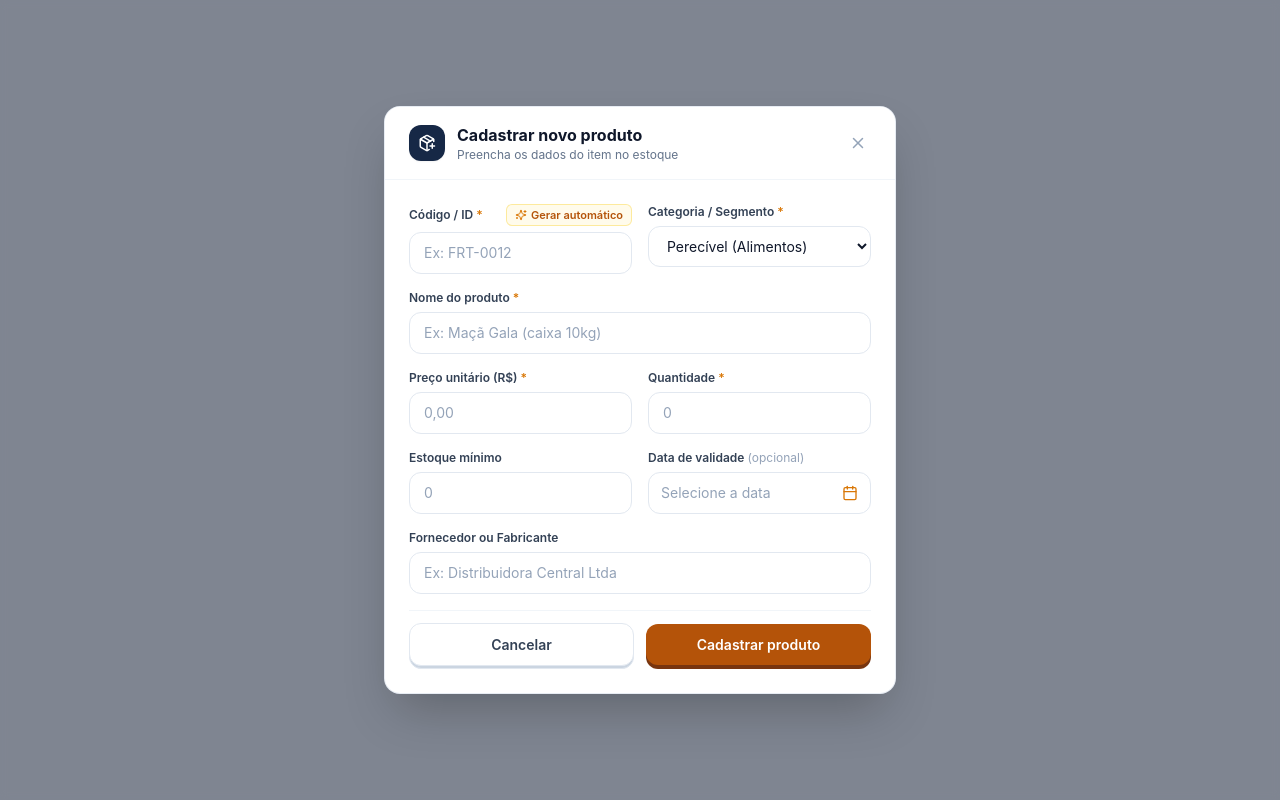
ProductModal › valida campos obrigatórios ao submeter formulário vazio
Click the button "Cadastrar produto" at (758, 644), box x1=646 y1=624 x2=871 y2=665
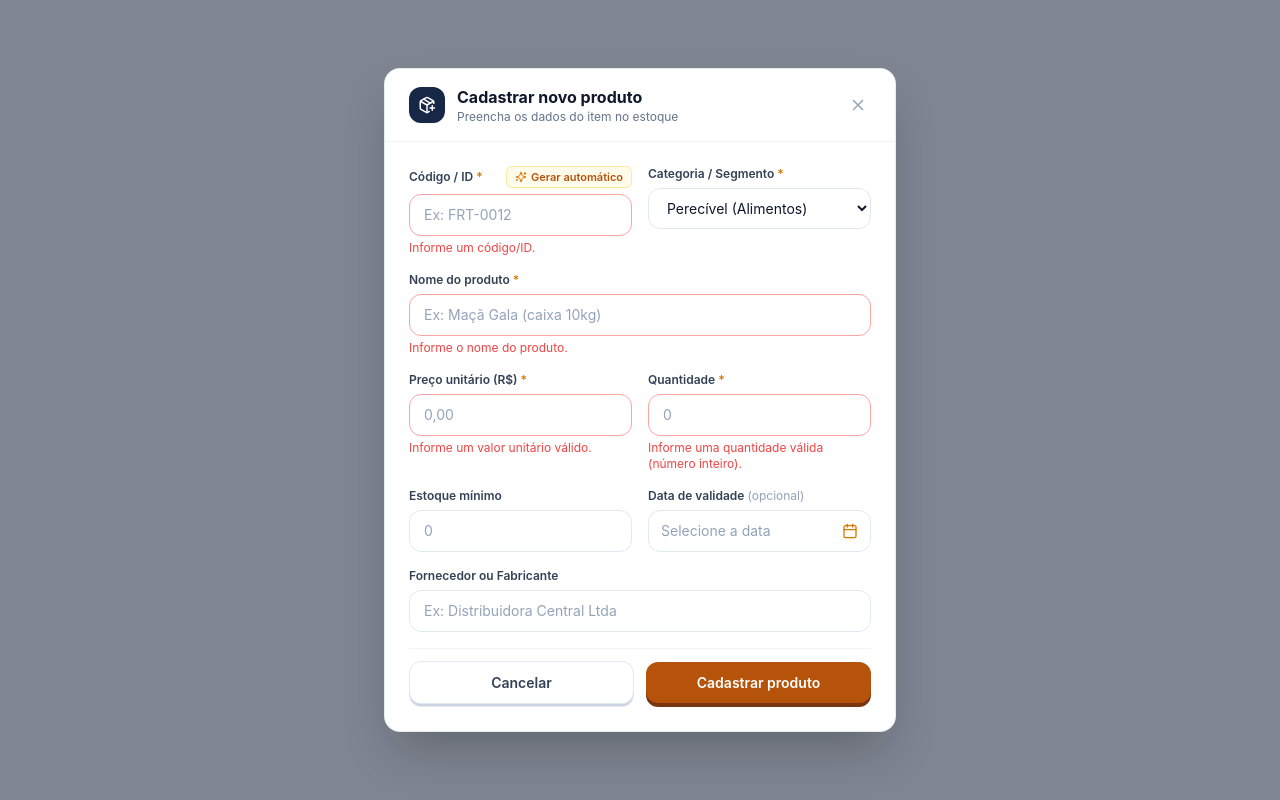
Expected: the text "Informe o nome do produto." is shown, x1=409 y1=340 x2=568 y2=355
Expected: the text "Informe um código/ID." is shown, x1=409 y1=240 x2=535 y2=255
